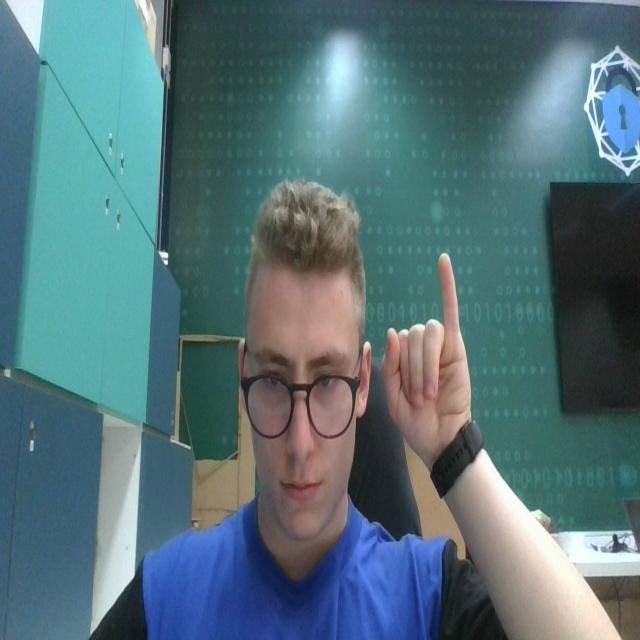I: (379, 250, 476, 436)
